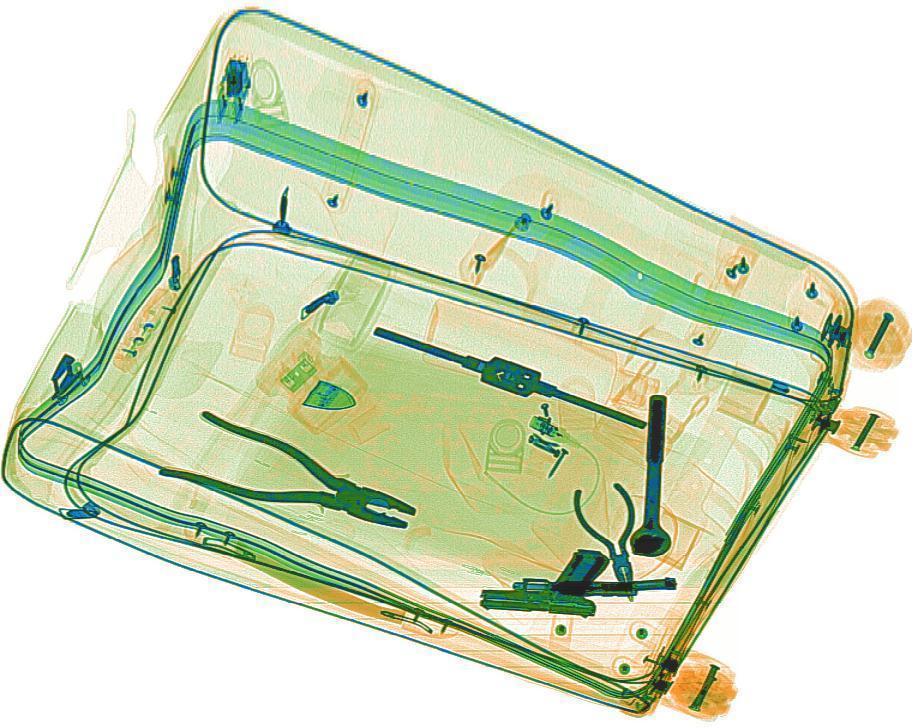Gun: (476, 539, 607, 620)
Pliers: (155, 405, 431, 557), (566, 480, 663, 607)
